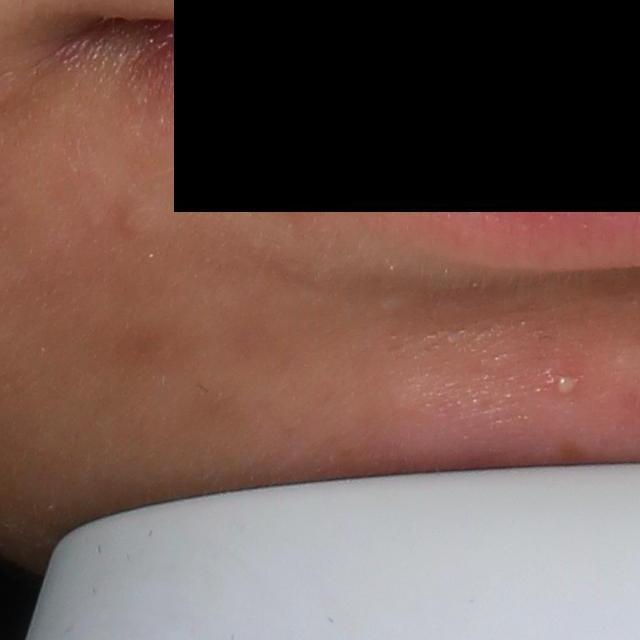comedo: (112, 199, 157, 242)
hypertrophic_scar: (373, 293, 404, 314)
pustule: (553, 374, 584, 401)
